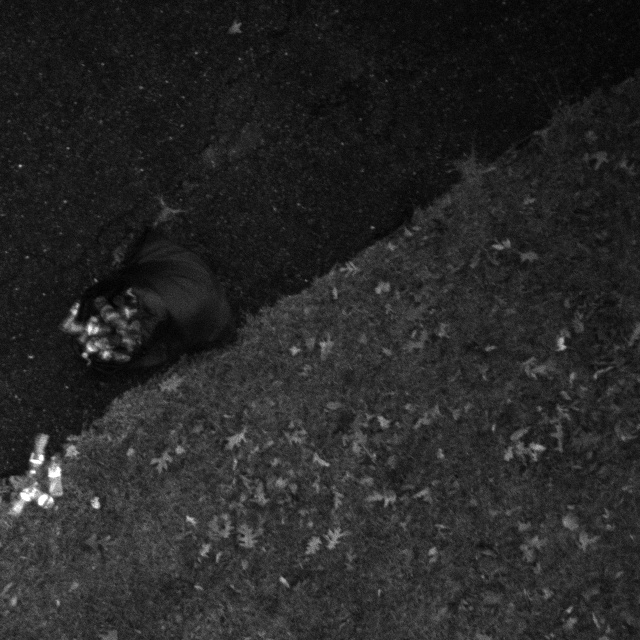bottle: (64, 312, 110, 339), (40, 452, 65, 500), (79, 326, 109, 361), (58, 298, 81, 338)
